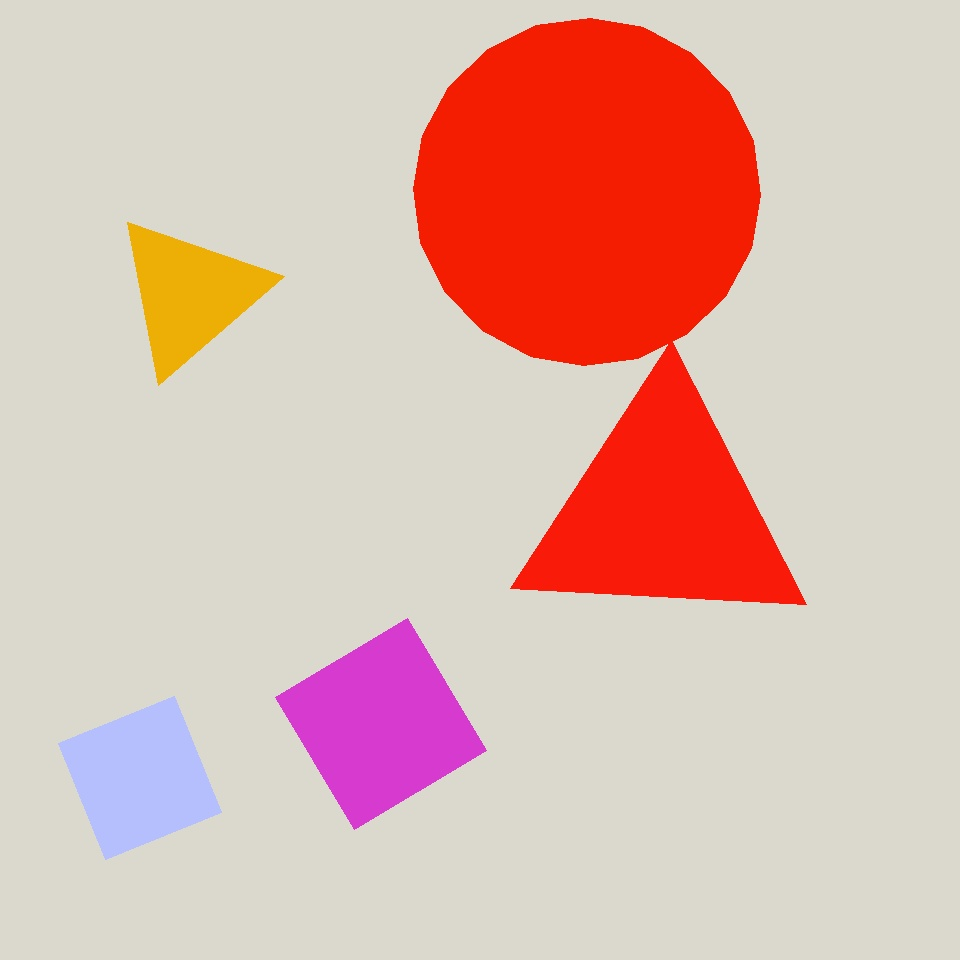circle: (65, 426, 353, 710), (515, 379, 811, 643), (111, 214, 268, 376), (769, 836, 871, 934)
square: (640, 575, 880, 815), (702, 233, 930, 462), (97, 585, 325, 813), (276, 618, 486, 830), (458, 55, 652, 249), (59, 696, 222, 860), (176, 287, 339, 450), (623, 149, 721, 247)
triangle: (252, 18, 604, 370), (414, 19, 760, 366), (686, 573, 823, 709)
